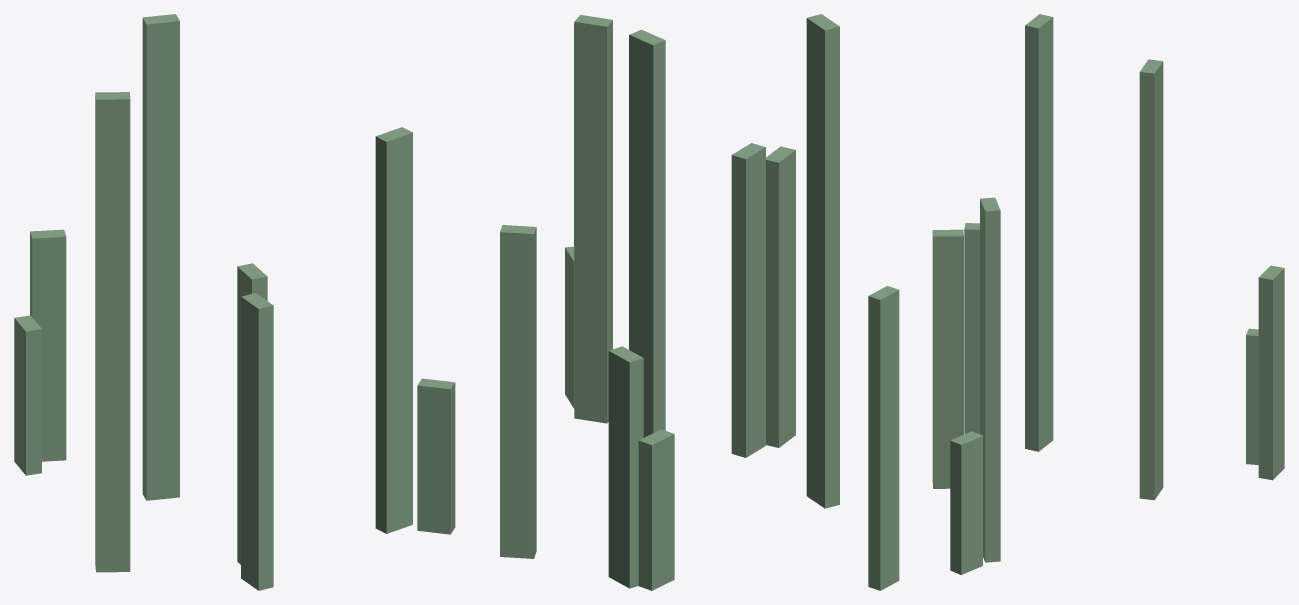
Rendered from weed_cluster_01.glb.
3 renders of one model, left to right at view 1: azimuth 30°, elevation 25°; view 2: azimuth 150°, elevation 25°; view 3: azimuth 270°, elevation 25°, orthographic. The views are drawn at different scales.
Parts seen in each view (by area): view 1: blade3, blade8, blade5, blade4, blade1, blade6, blade2, blade0, blade7; view 2: blade8, blade5, blade3, blade7, blade1, blade6, blade0, blade2; view 3: blade8, blade3, blade4, blade1, blade5, blade6, blade2, blade7, blade0.
Part boxes in pixels (box(x1,y1,x2,y2)): blade3: box(142, 14, 179, 500); blade8: box(95, 92, 130, 572); blade5: box(375, 127, 412, 533); blade4: box(500, 225, 536, 558); blade1: box(241, 293, 273, 590); blade6: box(30, 229, 66, 461); blade2: box(417, 378, 455, 534); blade0: box(14, 315, 41, 475); blade7: box(237, 263, 267, 564); blade8: box(806, 14, 839, 508); blade5: box(574, 15, 612, 423); blade3: box(629, 29, 665, 437); blade7: box(731, 143, 765, 457); blade1: box(766, 146, 795, 447); blade6: box(608, 346, 643, 588); blade0: box(638, 429, 674, 590); blade2: box(565, 246, 574, 408); blade8: box(1025, 14, 1053, 451); blade3: box(1139, 59, 1163, 500); blade4: box(868, 286, 899, 590); blade1: box(932, 229, 963, 488); blade5: box(980, 197, 1000, 562); blade6: box(1258, 265, 1284, 480); blade2: box(950, 431, 982, 574); blade7: box(964, 223, 979, 434); blade0: box(1246, 328, 1258, 464).
Size of the model in its own units: 0.4712 by 0.6101 by 0.5397.
